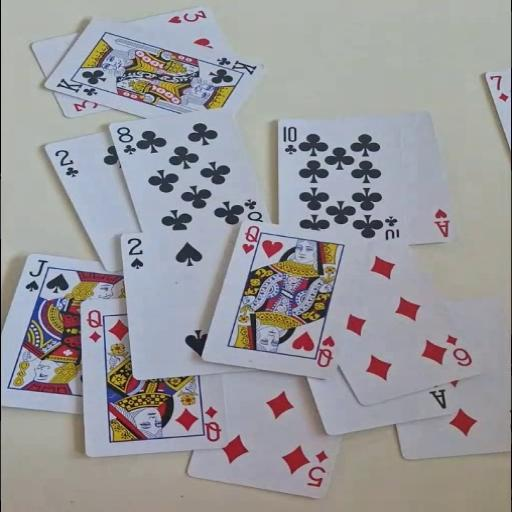10: (314, 333, 336, 369), (281, 124, 299, 156)
2: (51, 147, 80, 178), (124, 236, 146, 270)
3: (165, 8, 208, 24)
5: (304, 448, 331, 489)
6: (444, 332, 474, 368)
7: (487, 72, 509, 102)
8: (114, 125, 136, 155)
A: (432, 206, 452, 238)
J: (22, 258, 48, 292)
K: (53, 75, 101, 97), (213, 55, 258, 75)
Q: (200, 404, 222, 443), (238, 224, 262, 256), (84, 307, 104, 344)
